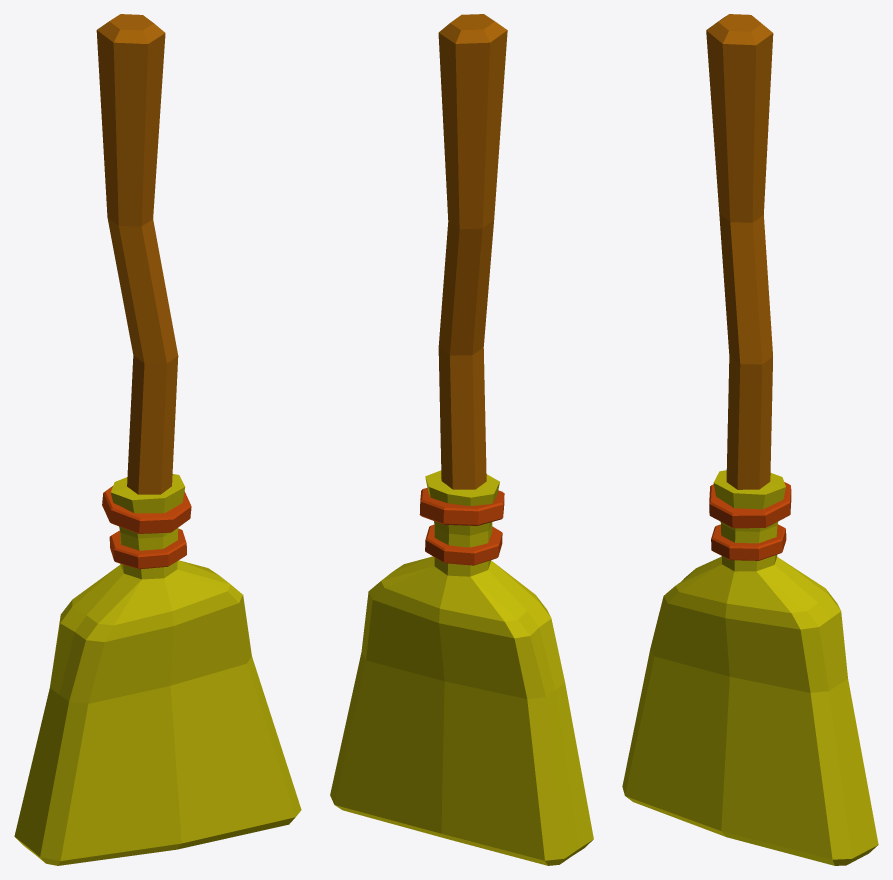
File: broom_b.fbx
3 renders of one model, left to right at view 1: azimuth 30°, elevation 25°; view 2: azimuth 150°, elevation 25°; view 3: azimuth 330°, elevation 25°, orthographic. The views are drawn at different scales.
Visible parts, largest first — view 1: Cube; view 2: Cube; view 3: Cube.
Boxes of the visible parts, bbox=[...] form: Cube: bbox=[14, 14, 301, 865]; Cube: bbox=[330, 14, 593, 865]; Cube: bbox=[622, 14, 878, 865].
Bounding box in the file's own units: 39.94 × 125 × 15.2.
